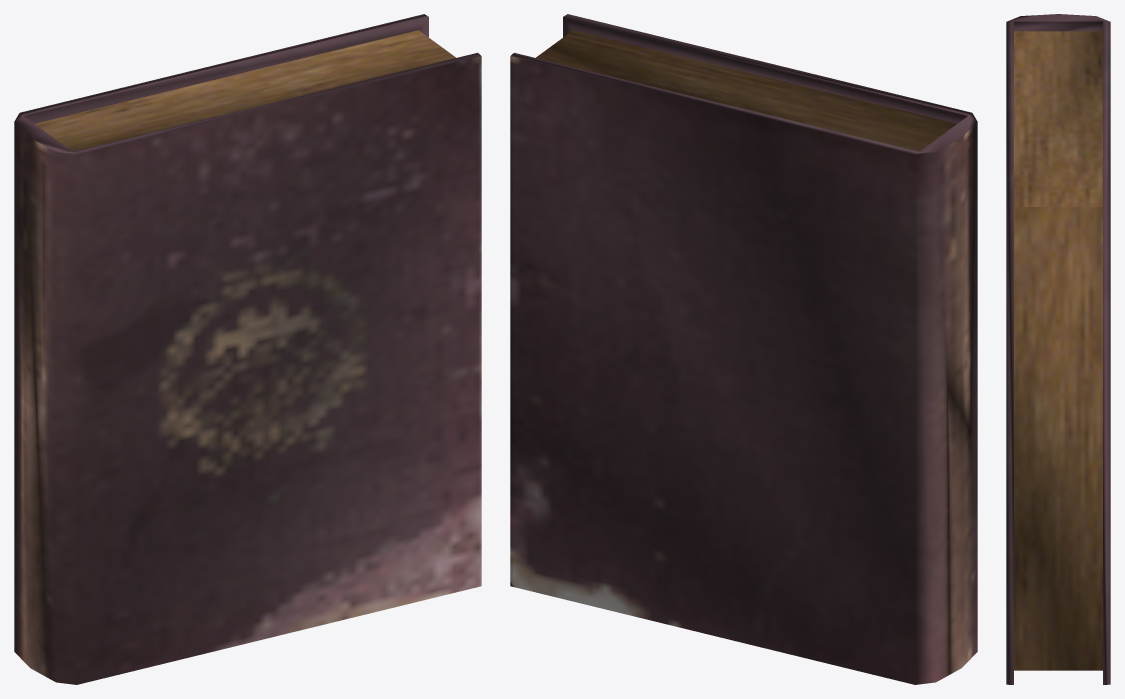
Rendered from MS_Book_2.fbx.
The picture shows the model from 3 angles, left to right: view 1: azimuth 30°, elevation 25°; view 2: azimuth 150°, elevation 25°; view 3: azimuth 270°, elevation 25°; orthographic projection. The views are drawn at different scales.
Visible parts, largest first — view 1: MSH_Book_01; view 2: MSH_Book_01; view 3: MSH_Book_01.
Part boxes in pixels (x1,y1,x2,y2): MSH_Book_01: (14,14,481,684); MSH_Book_01: (510,14,977,684); MSH_Book_01: (1006,14,1110,684).
Bounding box in the file's own units: 20.87 × 25 × 4.89.
